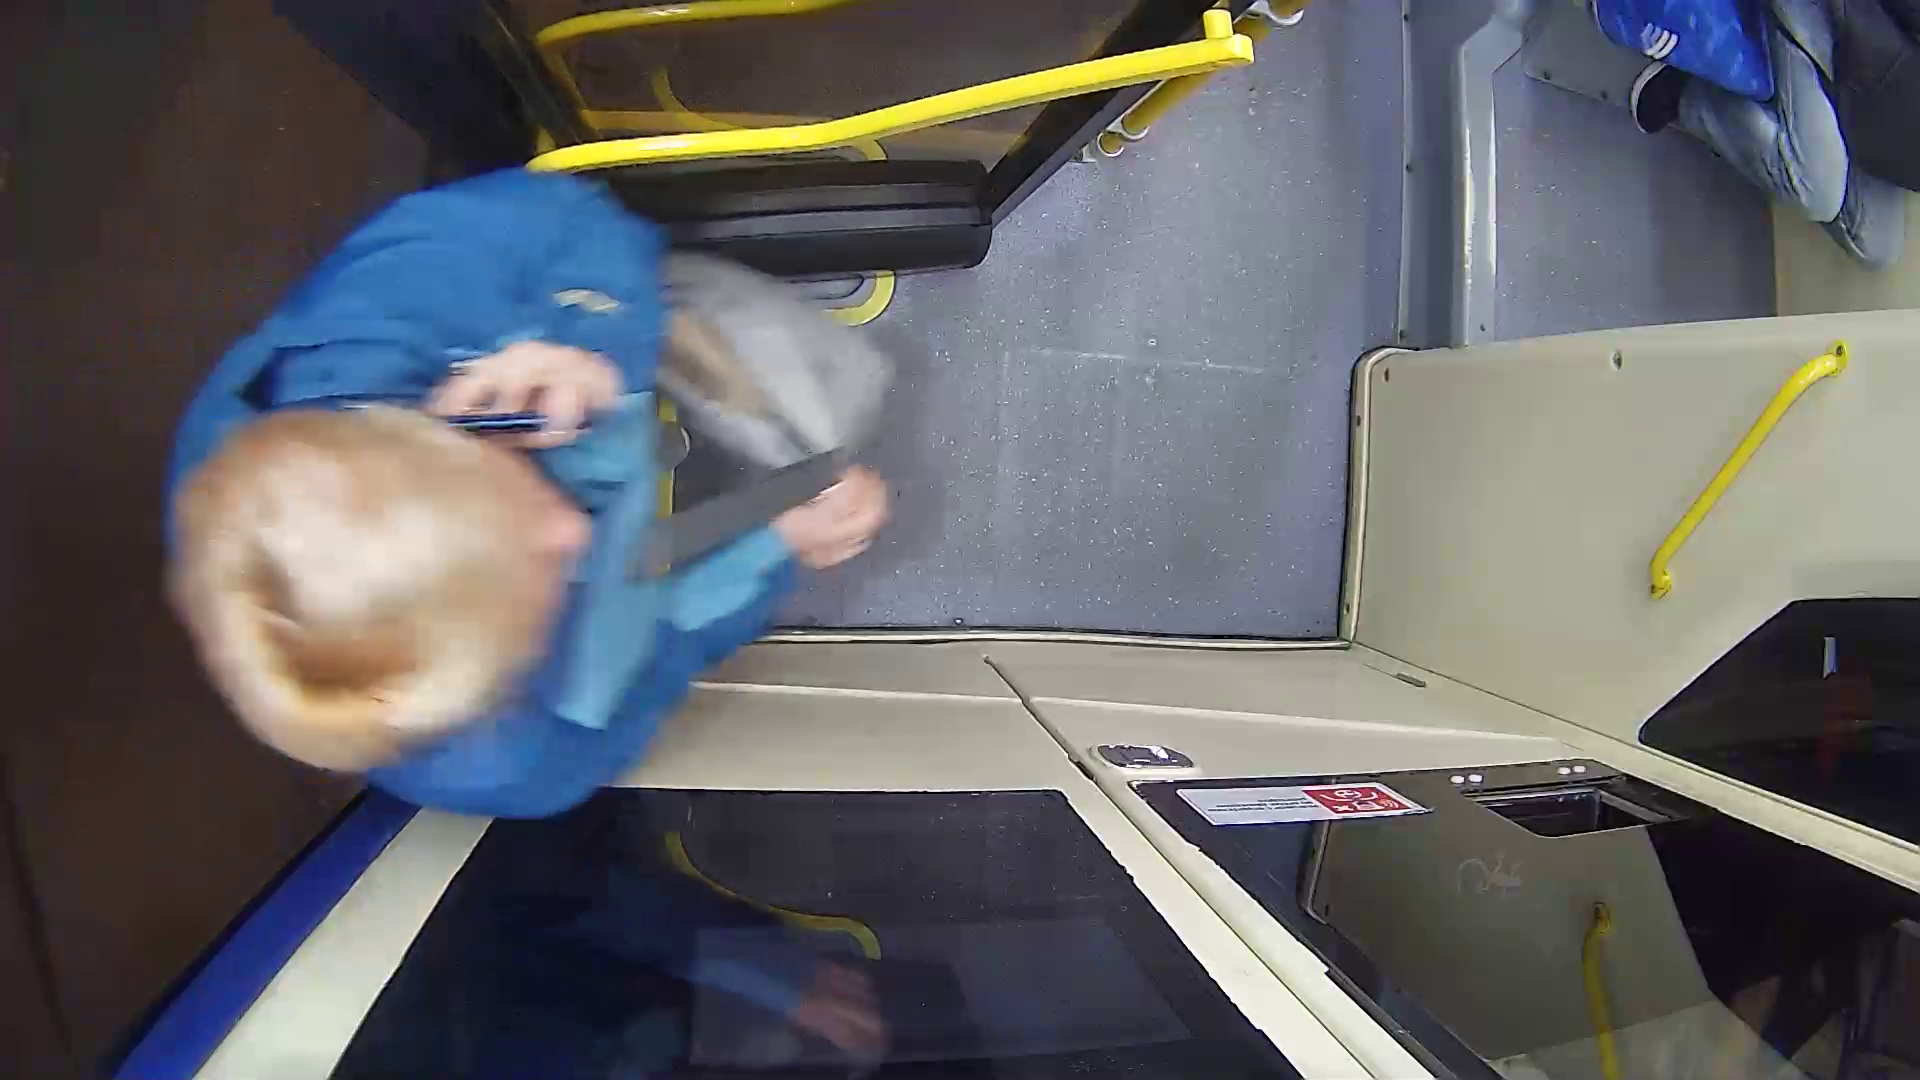person: (114, 170, 928, 810)
